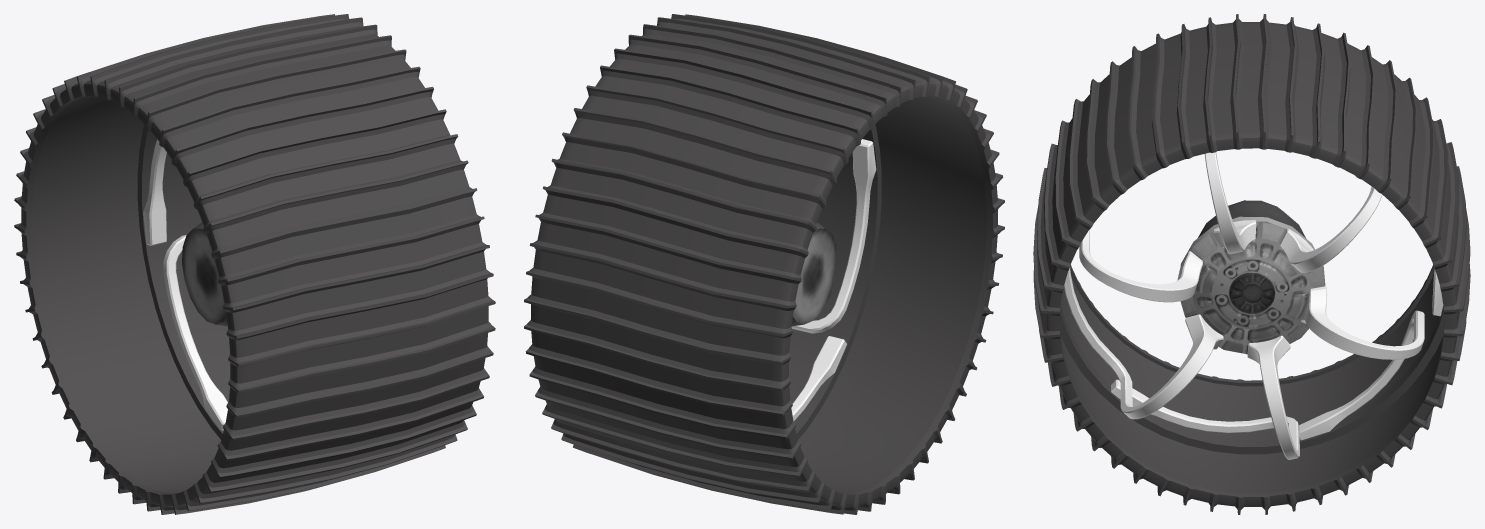
The model's file is wheel.glb.
The picture shows the model from 3 angles, left to right: view 1: azimuth 30°, elevation 25°; view 2: azimuth 150°, elevation 25°; view 3: azimuth 270°, elevation 25°; orthographic projection. The views are drawn at different scales.
Parts seen in each view (by area): view 1: Wheels_objs; view 2: Wheels_objs; view 3: Wheels_objs.
Boxes of the visible parts, x1=… form: Wheels_objs: x1=14, y1=14, x2=495, y2=514; Wheels_objs: x1=524, y1=14, x2=1004, y2=514; Wheels_objs: x1=1033, y1=14, x2=1470, y2=514.
Size of the model in its own units: 0.3356 by 0.5249 by 0.5249.
Materials: 3 (1 with a texture image).
